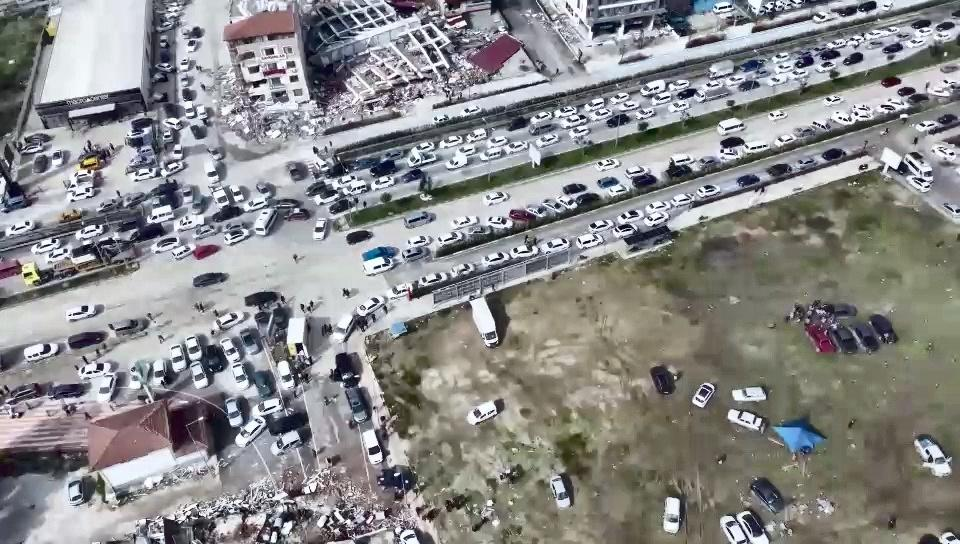kapali: (215, 419, 404, 543)
